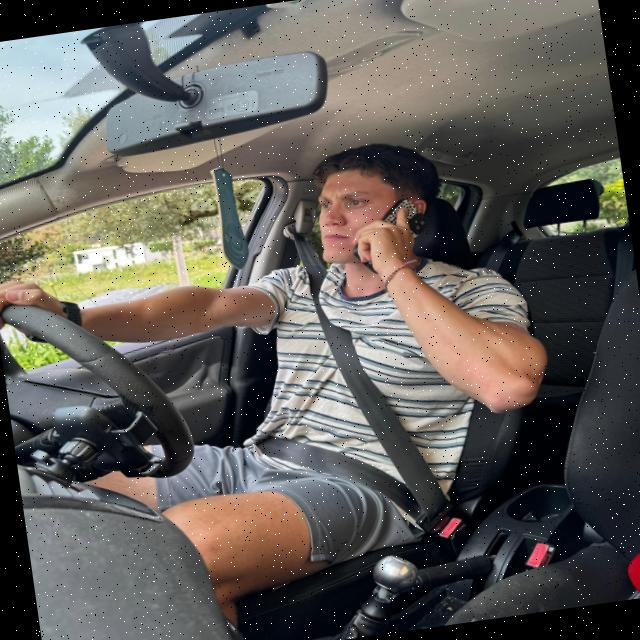Phone: (376, 194, 434, 247)
Seatbelt: (282, 208, 458, 543)
